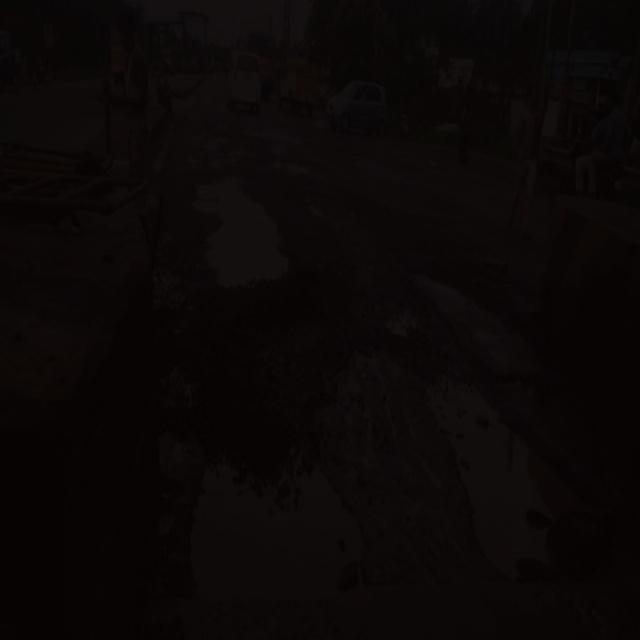Pothole: (415, 360, 629, 586), (196, 432, 372, 605), (408, 250, 556, 378), (180, 158, 296, 293)
